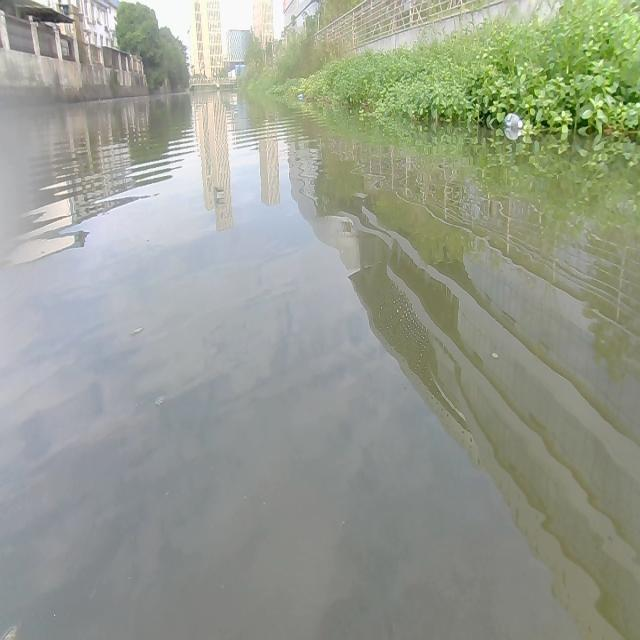bottle: (504, 114, 526, 133)
